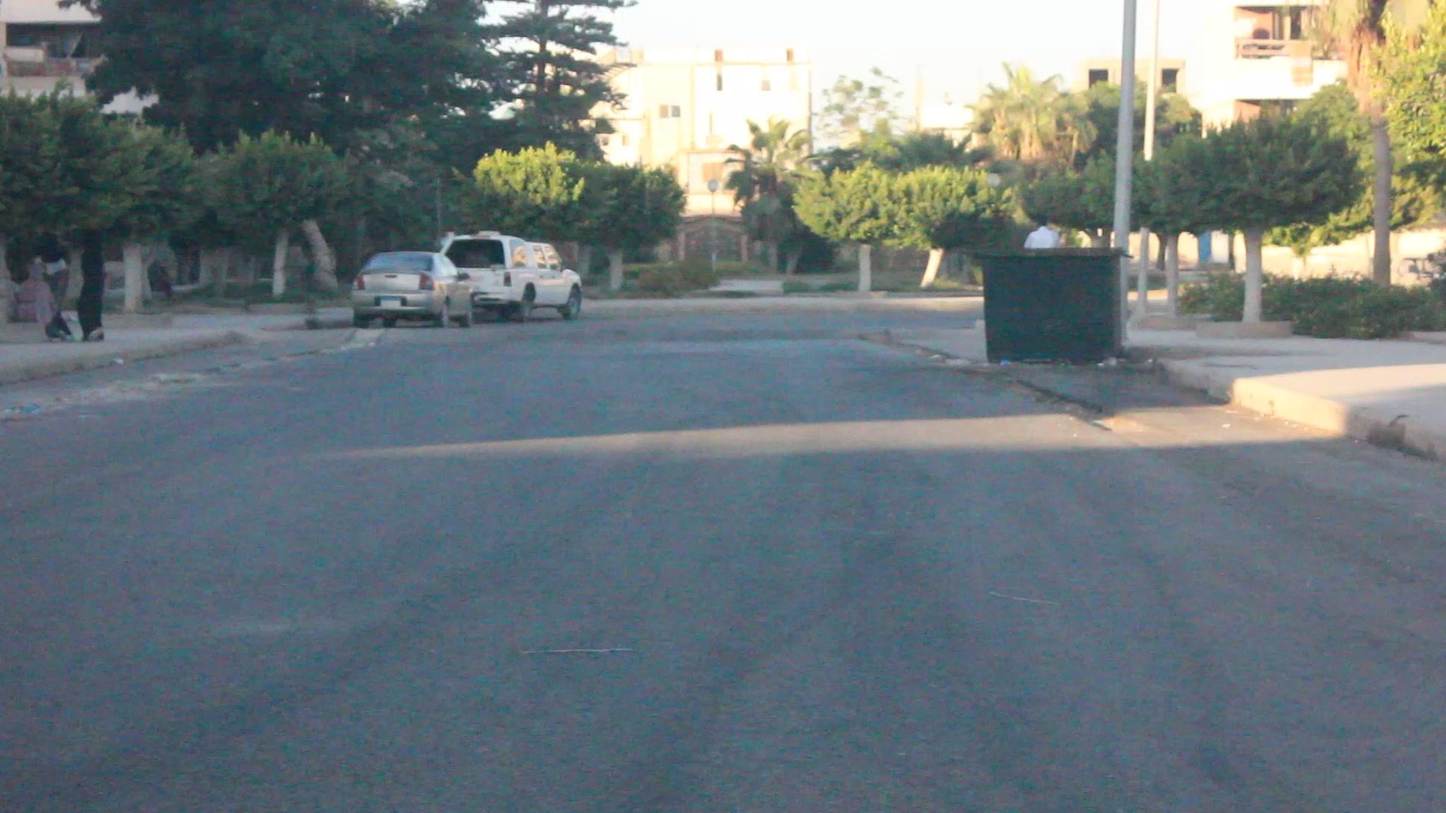Bump: (335, 327, 862, 348)
